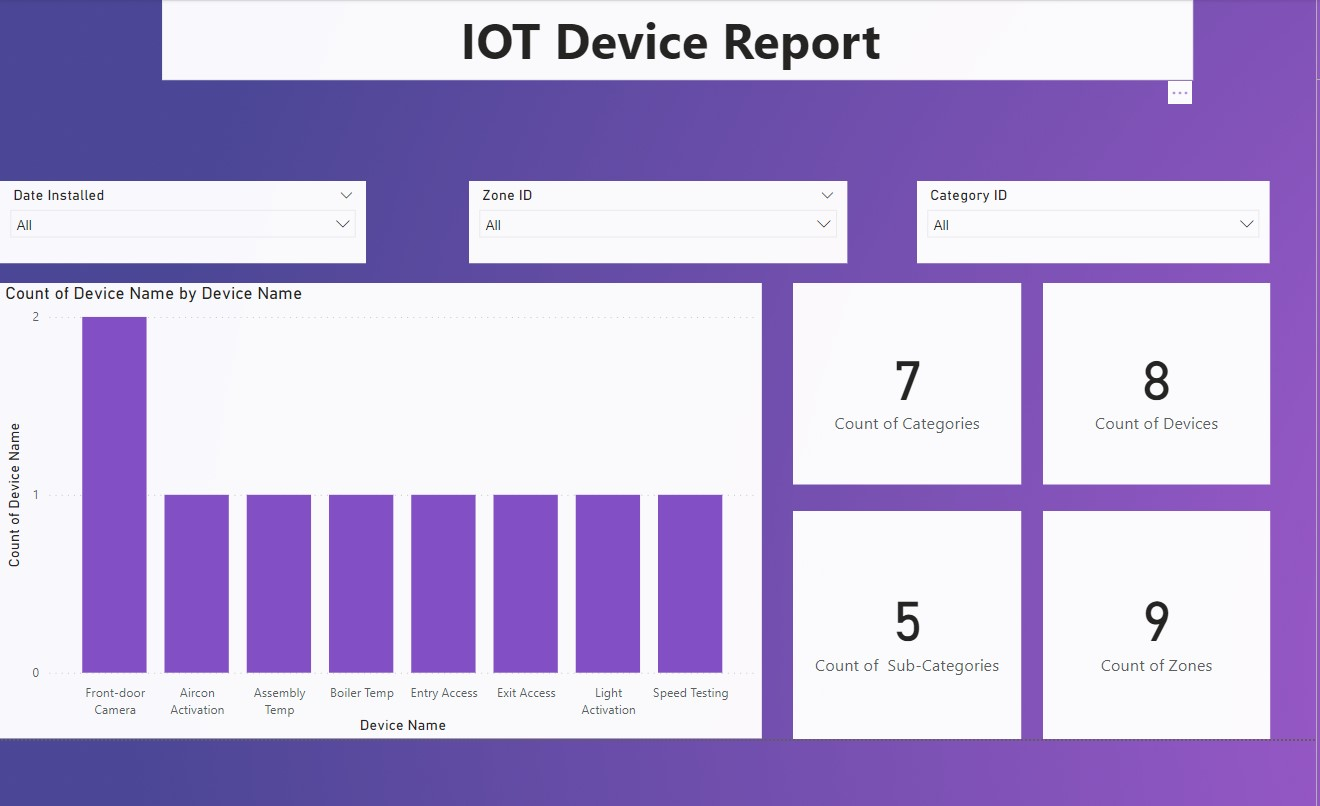

What the dashboard file says about the page in this screenshot:
{"tool":"powerbi","page":{"name":"High-Level Metrics","canvas":[1280,720],"ordinal":0},"visuals":[{"type":"slicer","fields":{"Values":["Device.Category ID"]},"box":[891.9,177,343.3,79.8],"z":0},{"type":"slicer","fields":{"Values":["Device.Zone ID"]},"box":[456.2,177,367.7,79.8],"z":1000},{"type":"slicer","fields":{"Values":["Device.Date Installe"]},"box":[0,177,356,79.8],"z":2000},{"type":"columnChart","fields":{"Category":["Device.Device Name"],"Y":["CountNonNull(Device.Device Name)"]},"box":[0,276.7,741.1,443.3],"z":3000},{"type":"card","fields":{"Values":["Count(Sub-Category.ID)"]},"box":[771.3,498,221.8,221.8],"z":4000},{"type":"card","fields":{"Values":["Count(Zone.ID)"]},"box":[1014.5,498,220.8,221.8],"z":5000},{"type":"card","fields":{"Values":["Count(Category.ID)"]},"box":[771.3,276.2,221.8,196.5],"z":6000},{"type":"card","fields":{"Values":["Count(Device.Device Name)"]},"box":[1014.5,276.2,220.8,196.5],"z":7000},{"type":"textbox","box":[157.6,1,1002.8,77.8],"z":8000}]}

Visuals, with their boxes in screenshot pixels (x1, y1, x2, y2):
slicer - Device.Category ID: box=[914, 180, 1263, 261]
slicer - Device.Zone ID: box=[471, 180, 845, 261]
slicer - Device.Date Installe: box=[7, 180, 369, 261]
columnChart - Device.Device Name x CountNonNull(Device.Device Name): box=[7, 281, 761, 732]
card - Count(Sub-Category.ID): box=[791, 506, 1017, 732]
card - Count(Zone.ID): box=[1039, 506, 1263, 732]
card - Count(Category.ID): box=[791, 281, 1017, 481]
card - Count(Device.Device Name): box=[1039, 281, 1263, 481]
textbox: box=[167, 1, 1187, 80]
